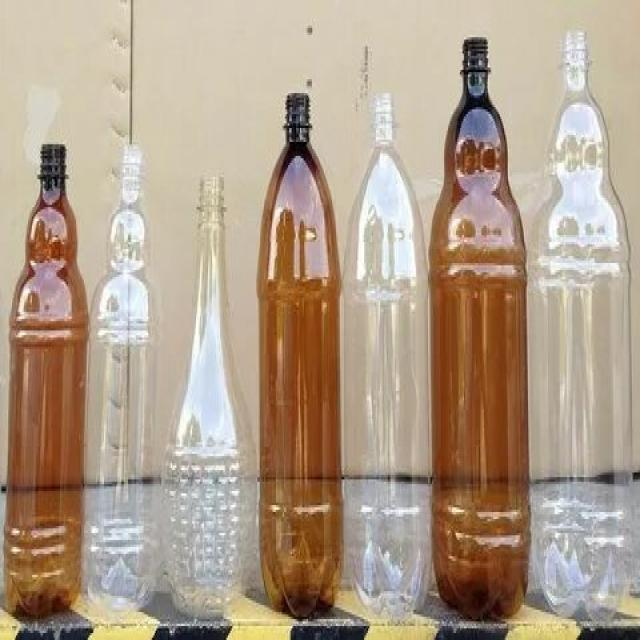brown: (430, 37, 530, 620), (257, 93, 341, 617), (3, 146, 88, 620)
